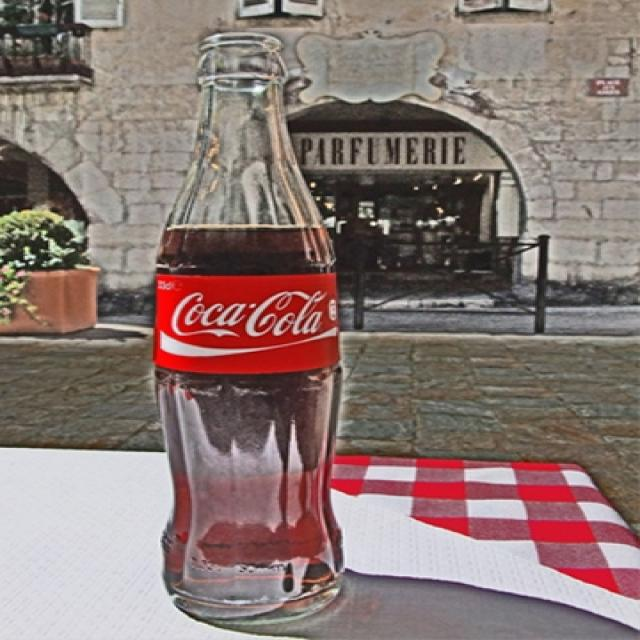cocacola: (161, 289, 332, 341)
